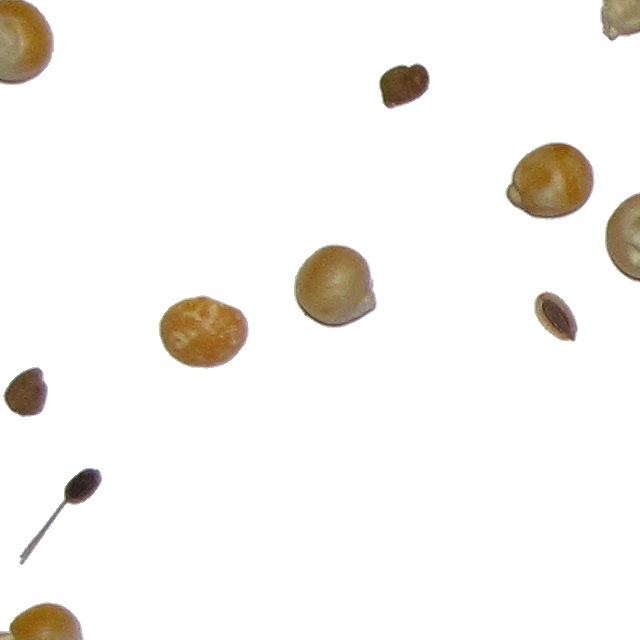buckwheat: (378, 62, 431, 110), (2, 366, 49, 418), (533, 290, 579, 343)
dill: (18, 467, 104, 566)
mais: (504, 141, 596, 221), (293, 243, 378, 329), (158, 294, 250, 370), (604, 190, 640, 284), (16, 601, 88, 640)
